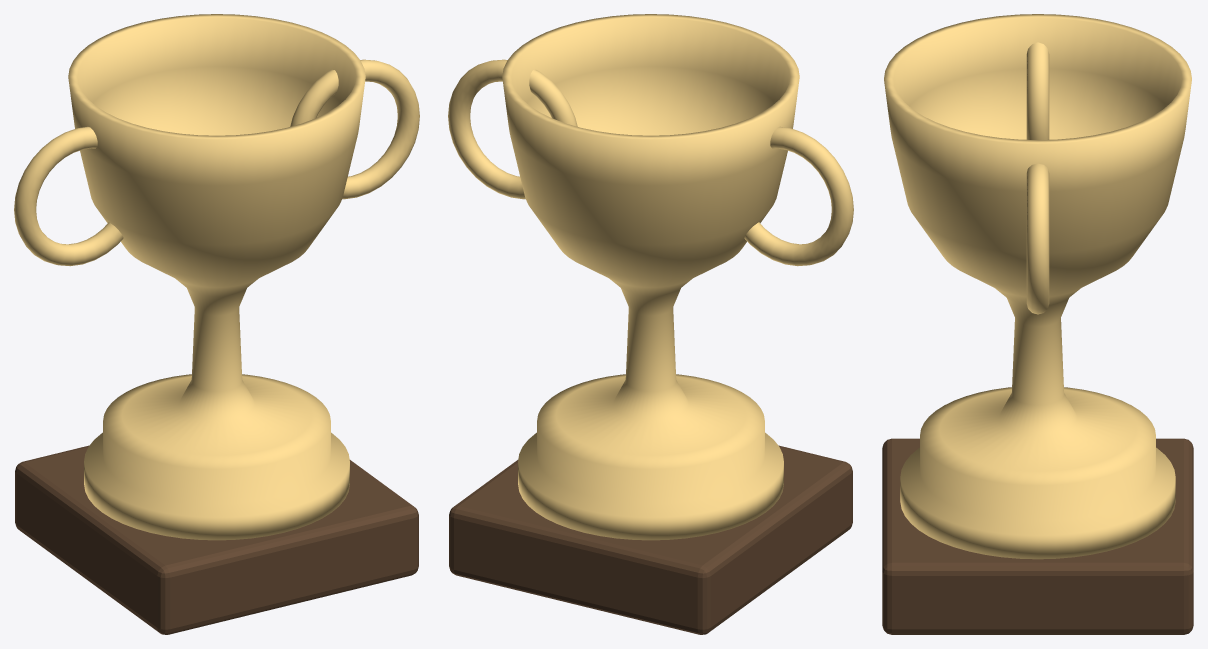
Rendered from trophy.glb.
The picture shows the model from 3 angles, left to right: view 1: azimuth 30°, elevation 25°; view 2: azimuth 150°, elevation 25°; view 3: azimuth 270°, elevation 25°; orthographic projection. The views are drawn at different scales.
Parts seen in each view (by area): view 1: Trophy, TrophyBase, TrophyHandle-1, TrophyHandle1; view 2: Trophy, TrophyBase, TrophyHandle-1, TrophyHandle1; view 3: Trophy, TrophyBase, TrophyHandle1, TrophyHandle-1.
Part boxes in pixels (<box>): Trophy: <box>68,14,365,540</box>; TrophyBase: <box>15,445,418,634</box>; TrophyHandle-1: <box>14,126,123,266</box>; TrophyHandle1: <box>290,59,419,199</box>; Trophy: <box>502,14,799,540</box>; TrophyBase: <box>449,445,852,634</box>; TrophyHandle-1: <box>744,126,853,266</box>; TrophyHandle1: <box>448,59,577,199</box>; Trophy: <box>884,14,1191,559</box>; TrophyBase: <box>882,438,1193,634</box>; TrophyHandle1: <box>1026,163,1049,314</box>; TrophyHandle-1: <box>1026,42,1049,139</box>.
Size of the model in its own units: 1.47 by 1.66 by 0.95.
